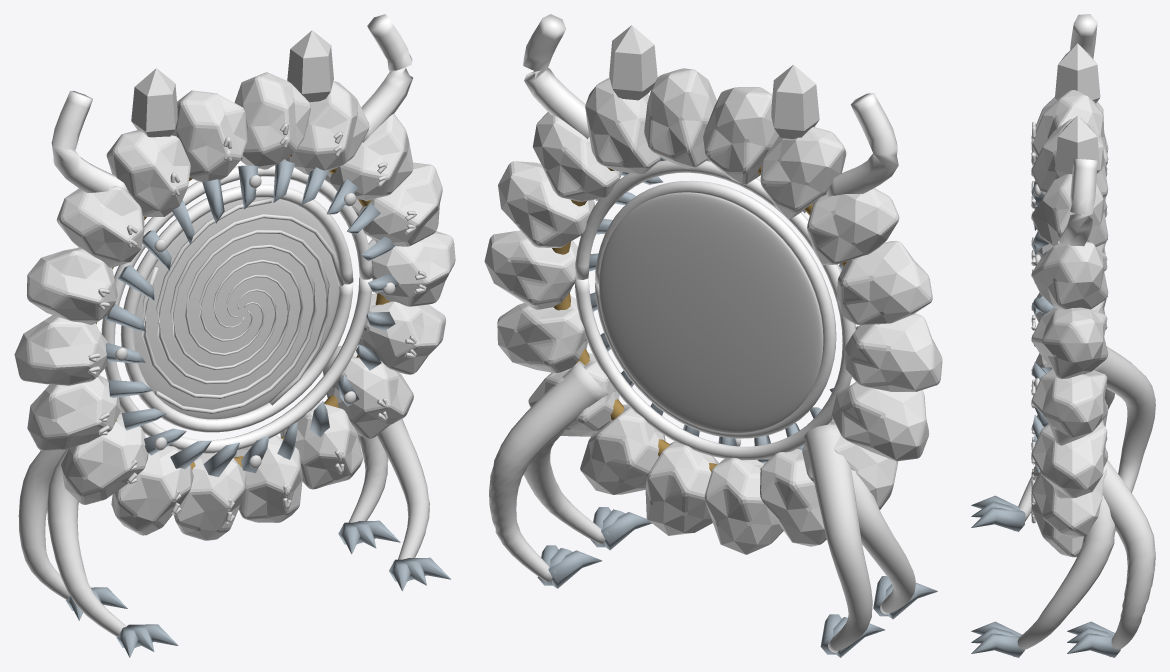
File: portal.fbx
3 renders of one model, left to right at view 1: azimuth 30°, elevation 25°; view 2: azimuth 150°, elevation 25°; view 3: azimuth 270°, elevation 25°, orthographic. The views are drawn at different scales.
Parts seen in each view (by area): view 1: Ring01_Stone, RecessedEventHorizon, Ring02_Metal, Eyeball_Glow, ConcentricAperture.002, ConcentricAperture.001, portal_Metal, portal_Glow, RootCable.001, RootCable.003, RootCable, Ring01_Glow (+5 smaller); view 2: Ring01_Stone, RecessedEventHorizon, ConcentricAperture.001, RootCable.002, RootCable.003, portal_Metal, ConcentricAperture.002, portal_Glow, RootCable.001, Ring02_Metal, RootCable, Claw2_Metal (+3 smaller); view 3: Ring01_Stone, RootCable.002, RootCable, RootCable.003, portal_Glow, portal_Metal, Claw1_Metal, Claw0_Metal, Claw2_Metal, Ring02_Metal, Ring01_Glow, RootCable.001.
Part boxes in pixels (x1,y1,x2,y2): Ring01_Stone: (14,72,455,540); RecessedEventHorizon: (134,197,339,419); Ring02_Metal: (96,154,399,476); Eyeball_Glow: (142,198,343,414); ConcentricAperture.002: (120,184,353,432); ConcentricAperture.001: (101,165,372,453); portal_Metal: (51,14,413,192); portal_Glow: (131,30,333,137); RootCable.001: (47,448,126,636); RootCable.003: (18,408,123,599); RootCable: (353,352,429,559); Ring01_Glow: (88,122,426,523); Ring01_Stone: (484,68,942,554); RecessedEventHorizon: (599,192,823,433); ConcentricAperture.001: (575,160,855,460); RootCable.002: (489,361,608,582); RootCable.003: (804,424,872,652); portal_Metal: (523,14,898,196); ConcentricAperture.002: (595,180,836,438); portal_Glow: (609,25,819,139); RootCable.001: (825,426,915,614); Ring02_Metal: (552,157,858,471); RootCable: (523,361,606,544); Claw2_Metal: (537,545,602,588); Ring01_Stone: (1031,90,1108,557); RootCable.002: (1103,460,1155,649); RootCable: (1017,495,1115,649); RootCable.003: (1094,346,1155,492); portal_Glow: (1055,43,1100,176); portal_Metal: (1058,14,1097,246); Claw1_Metal: (971,495,1025,531); Claw0_Metal: (971,621,1024,657); Claw2_Metal: (1067,621,1120,657); Ring02_Metal: (1032,181,1054,472); Ring01_Glow: (1031,122,1035,523); RootCable.001: (1018,367,1114,521).
Bounding box in the file's own units: 178 × 213 × 69.42.
